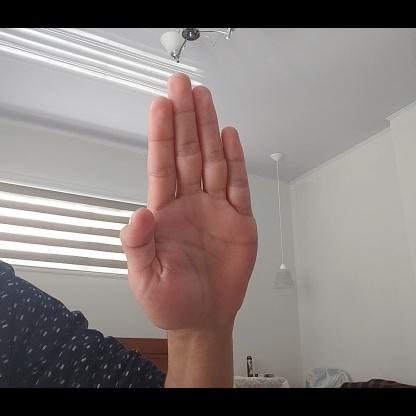B: (118, 72, 258, 330)
